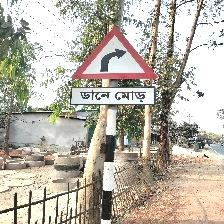Right-turn: (70, 24, 159, 107)
